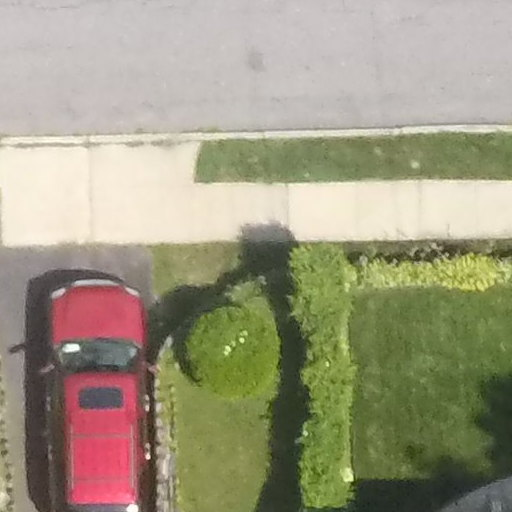car: (22, 253, 152, 512)
street: (1, 1, 512, 144)
